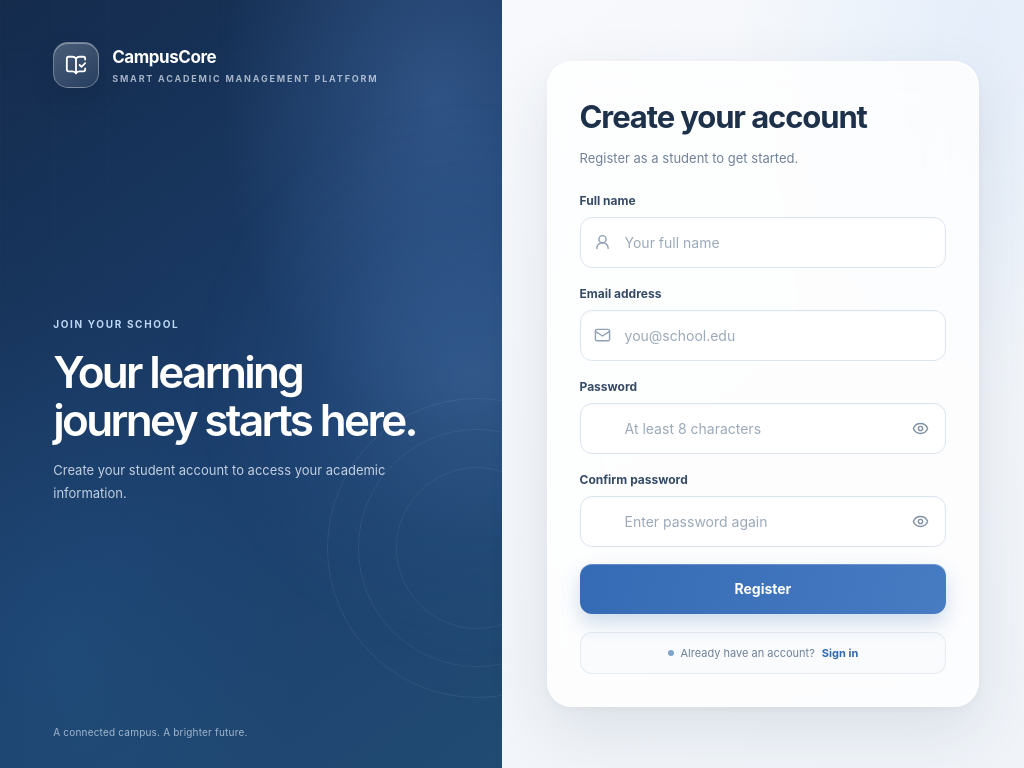
Scenario: registration flow › shows the backend password validation message when available
Type "Test Student" into the field labelled "Full name". click: (763, 242)
box: [580, 217, 946, 268]
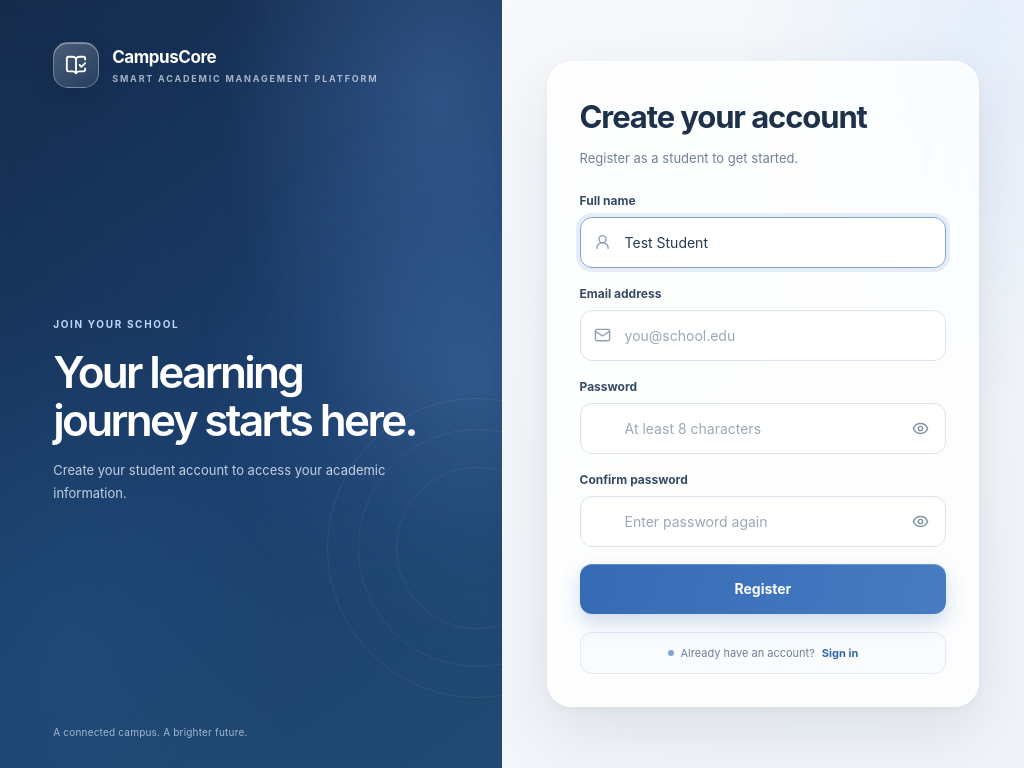
Type "new@example.com" into the field labelled "Email address". click: (763, 335)
box: [580, 310, 946, 361]
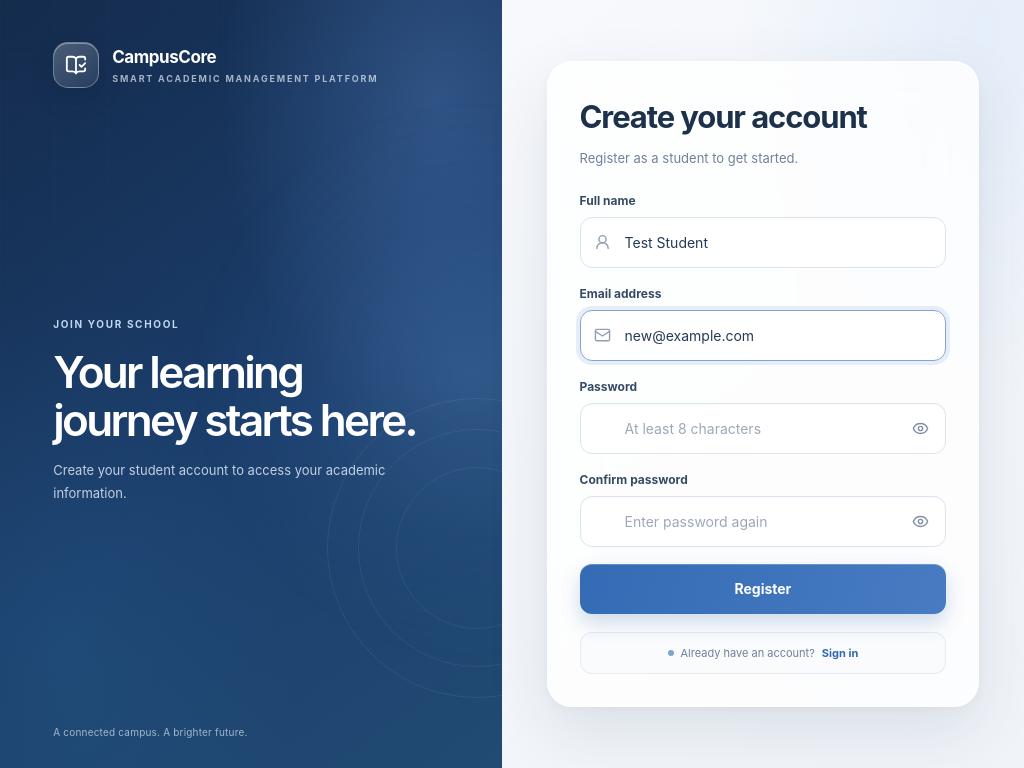
Type "Student@123" into the password field labelled "Password". click: (763, 428)
box: [580, 403, 946, 454]
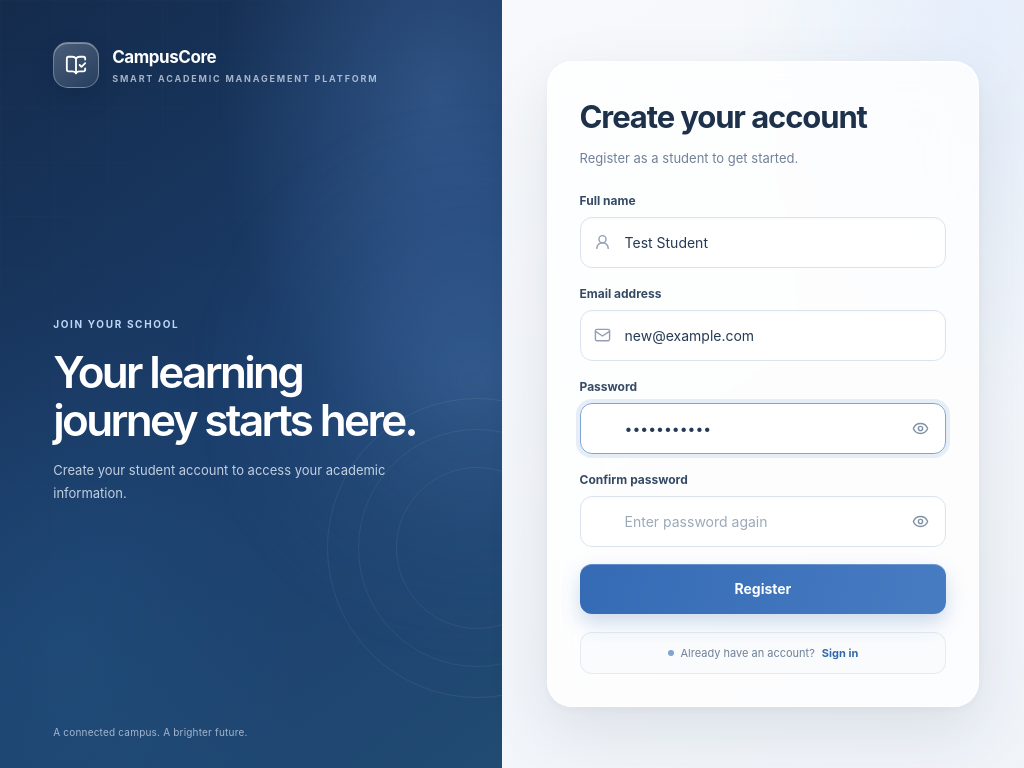
Type "Student@123" into the password field labelled "Confirm password". click: (763, 521)
box: [580, 496, 946, 547]
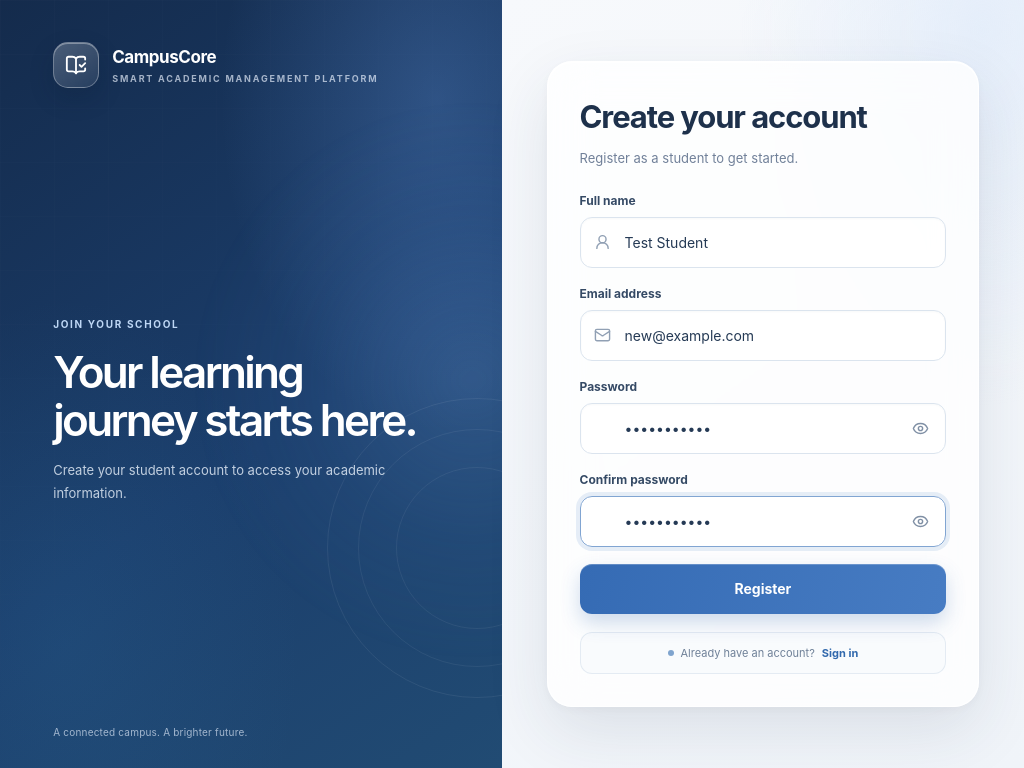
Click the button "Register". click: (763, 589)
box: [580, 564, 946, 614]
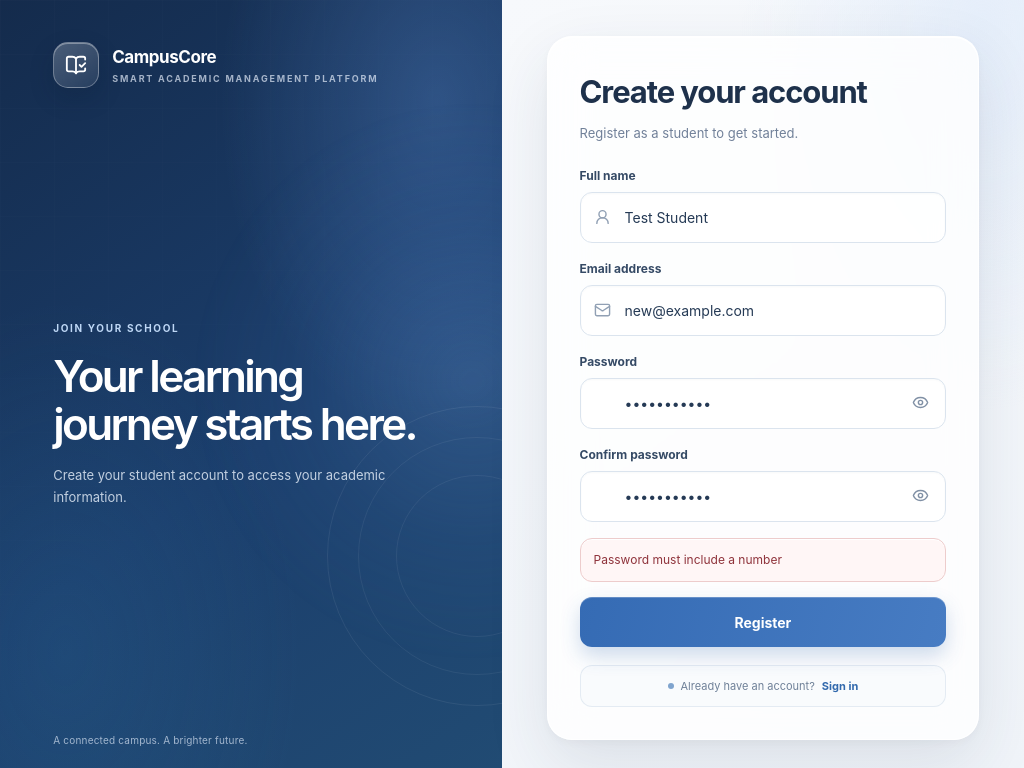
Expected: the message reads "Password must include a number", [594, 552, 782, 567]
